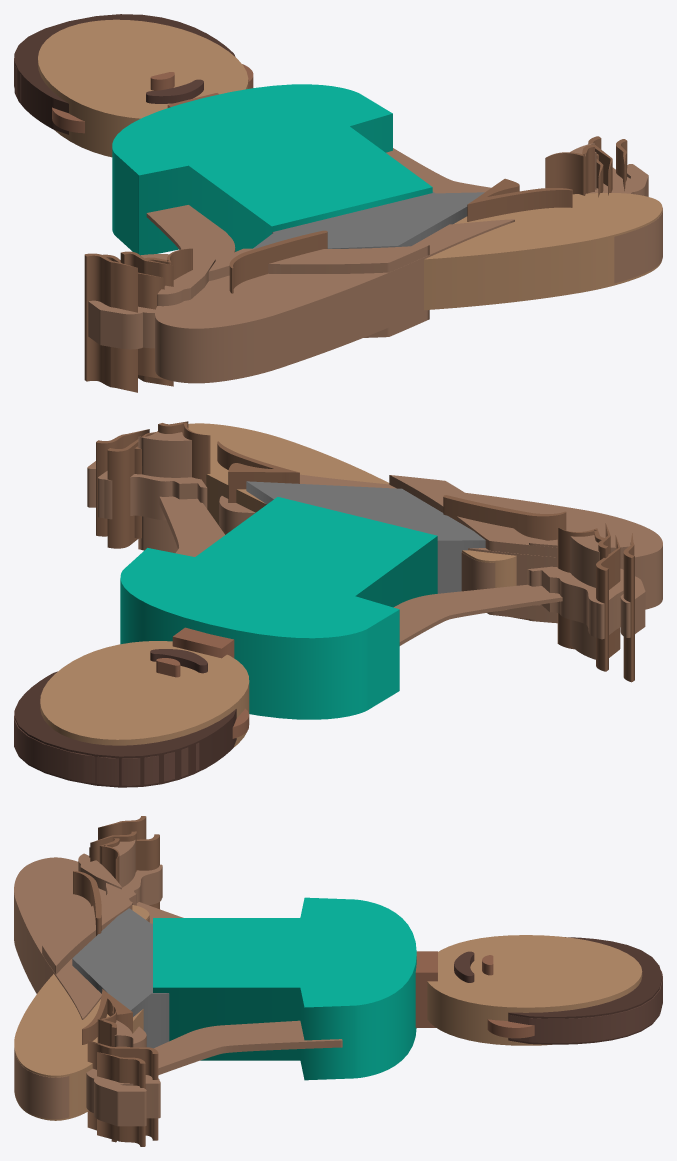
The model's file is emoji_u1f9d8_1f3fd_200d_2642.glb.
3 views of the same model, one above another, from view 1: azimuth 30°, elevation 25°; view 2: azimuth 150°, elevation 25°; view 3: azimuth 270°, elevation 25° (orthographic). The views are drawn at different scales.
Visible parts, largest first — view 1: emoji_u1f9d8_1f3fd_200d_2642; view 2: emoji_u1f9d8_1f3fd_200d_2642; view 3: emoji_u1f9d8_1f3fd_200d_2642.
Boxes of the visible parts, bbox=[...] form: emoji_u1f9d8_1f3fd_200d_2642: bbox=[14, 14, 662, 392]; emoji_u1f9d8_1f3fd_200d_2642: bbox=[14, 421, 662, 787]; emoji_u1f9d8_1f3fd_200d_2642: bbox=[14, 816, 662, 1146].
Bounding box in the file's own units: 0.0294 × 0.0066 × 0.0339.
